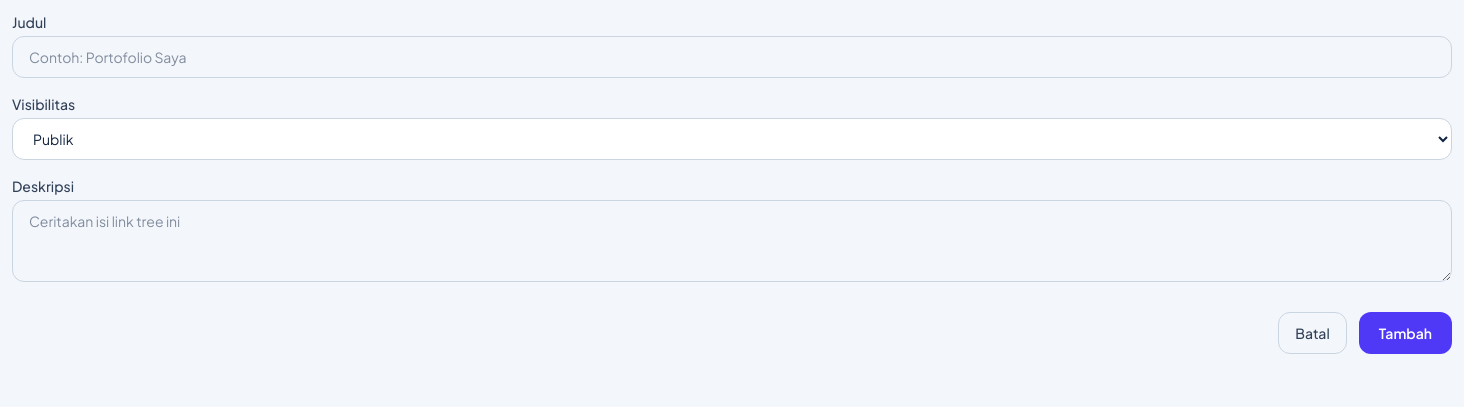
Scenario: LinkTreeForm › mengirim data yang sudah dirapikan dan menghapus error sebelumnya
Click the button "Tambah": x=1405, y=333 [1359,312,1452,354]
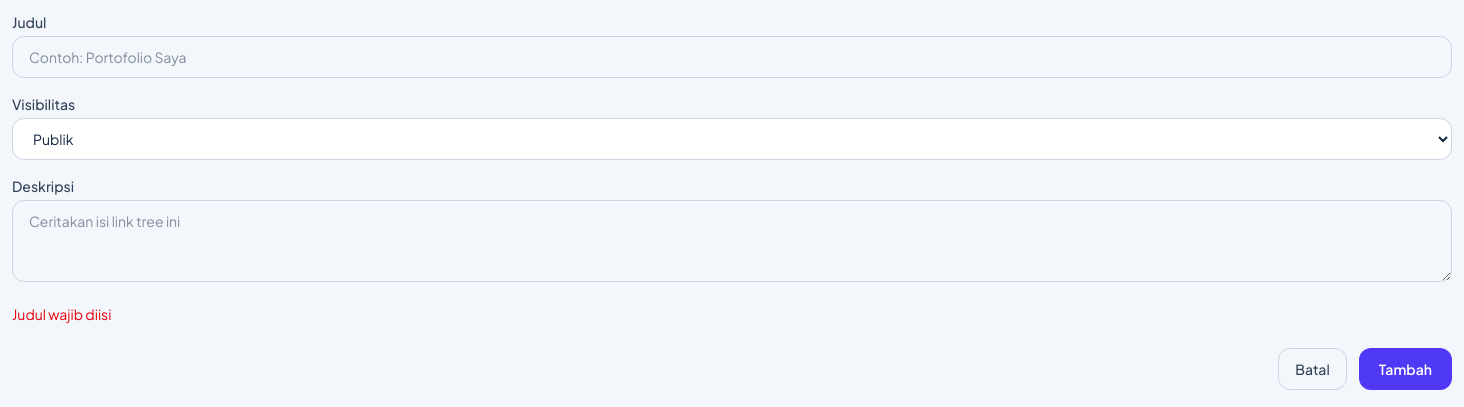
Now the message "Judul wajib diisi" is shown, box [12,305,111,323]
In the field labelled "Judul": x=732, y=57 [12,36,1452,78], type "  Portofolio "
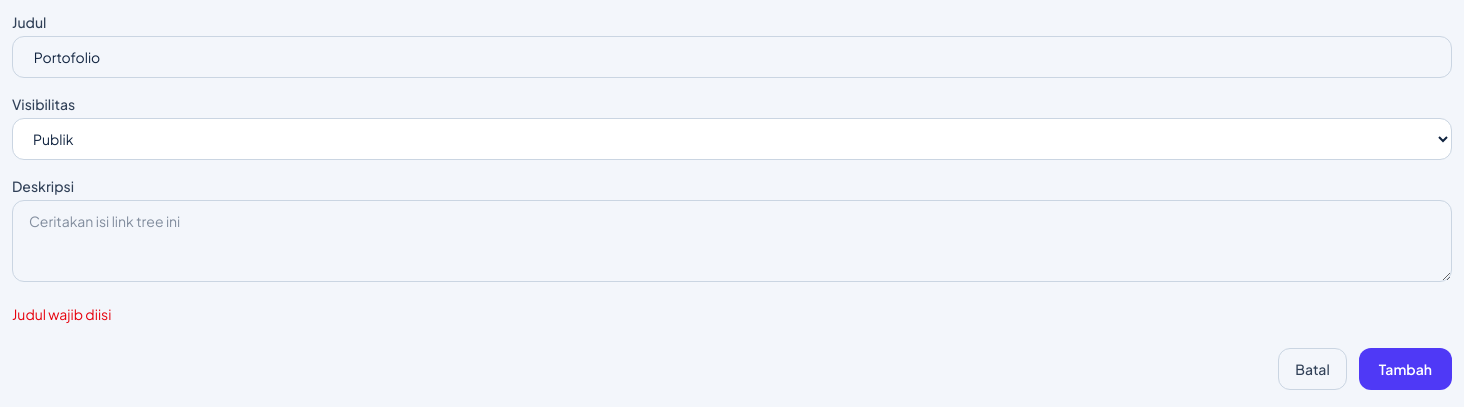
Select "Tidak terdaftar" in the dropdown labelled "Visibilitas": x=732, y=139 [12,118,1452,160]
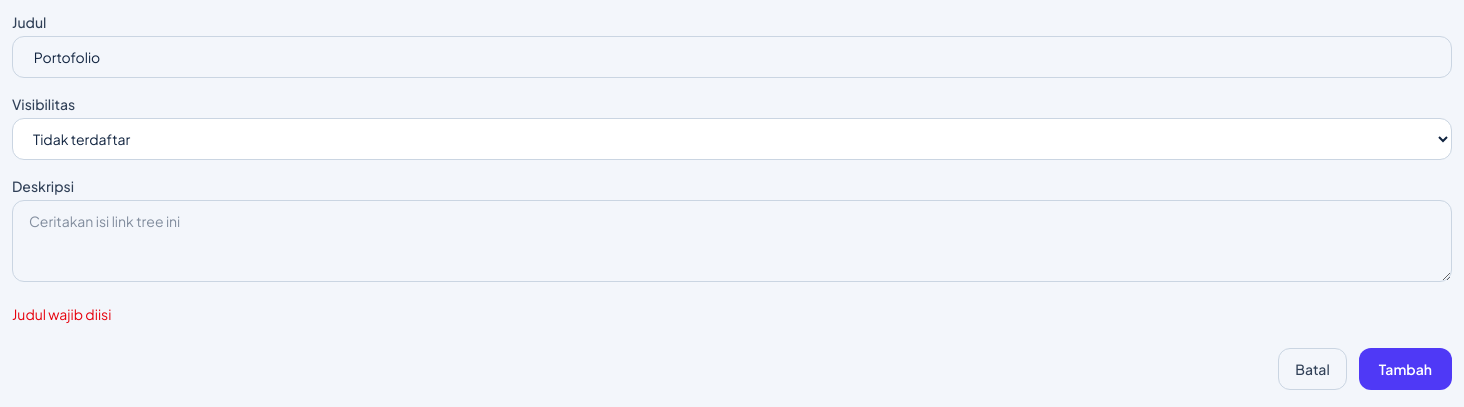
In the text box labelled "Deskripsi": x=732, y=241 [12,200,1452,282], type " Tautanku "
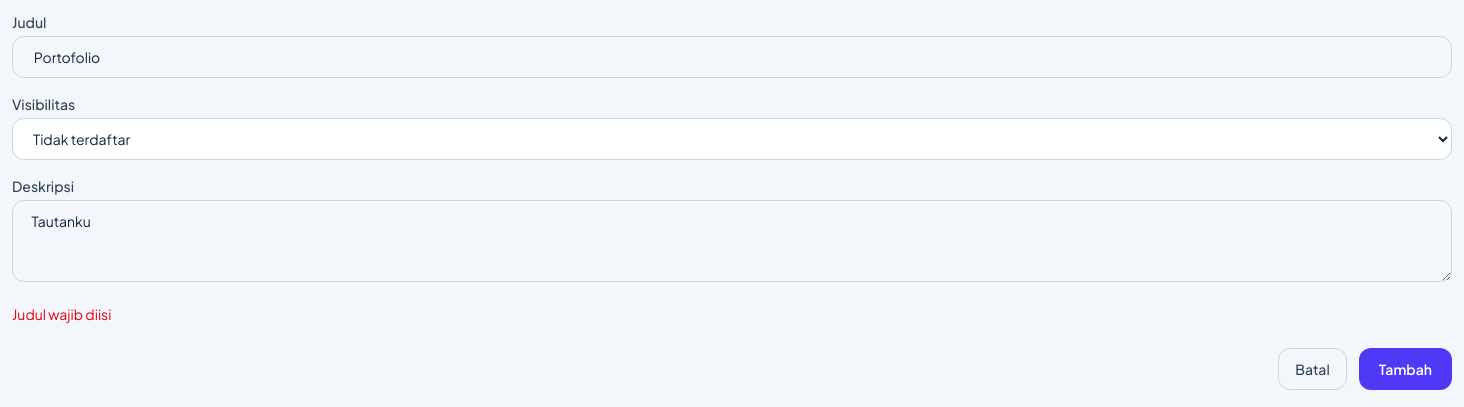
Click the button "Tambah": x=1405, y=369 [1359,348,1452,390]
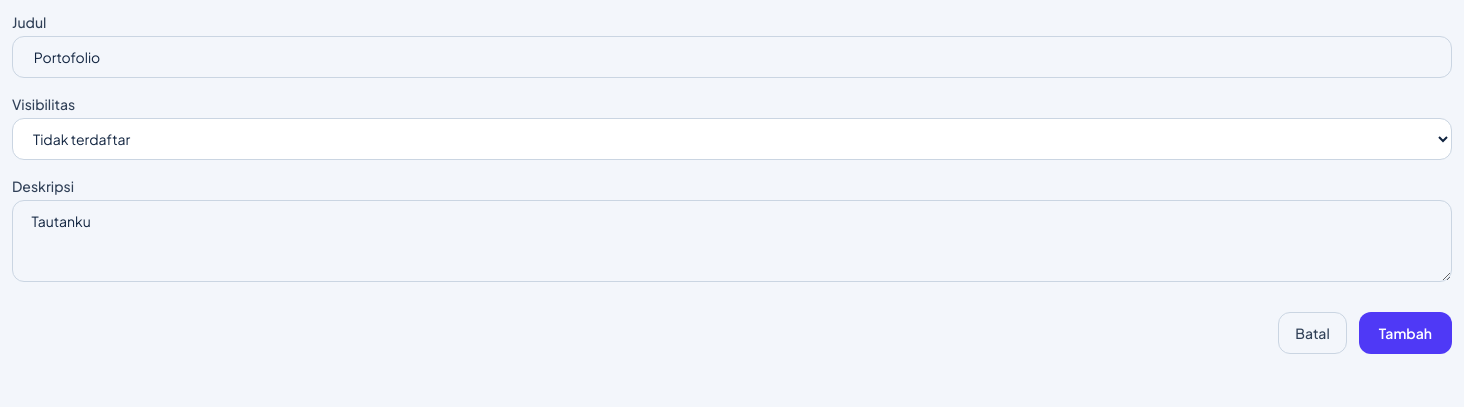
Now the message "Judul wajib diisi" is gone
